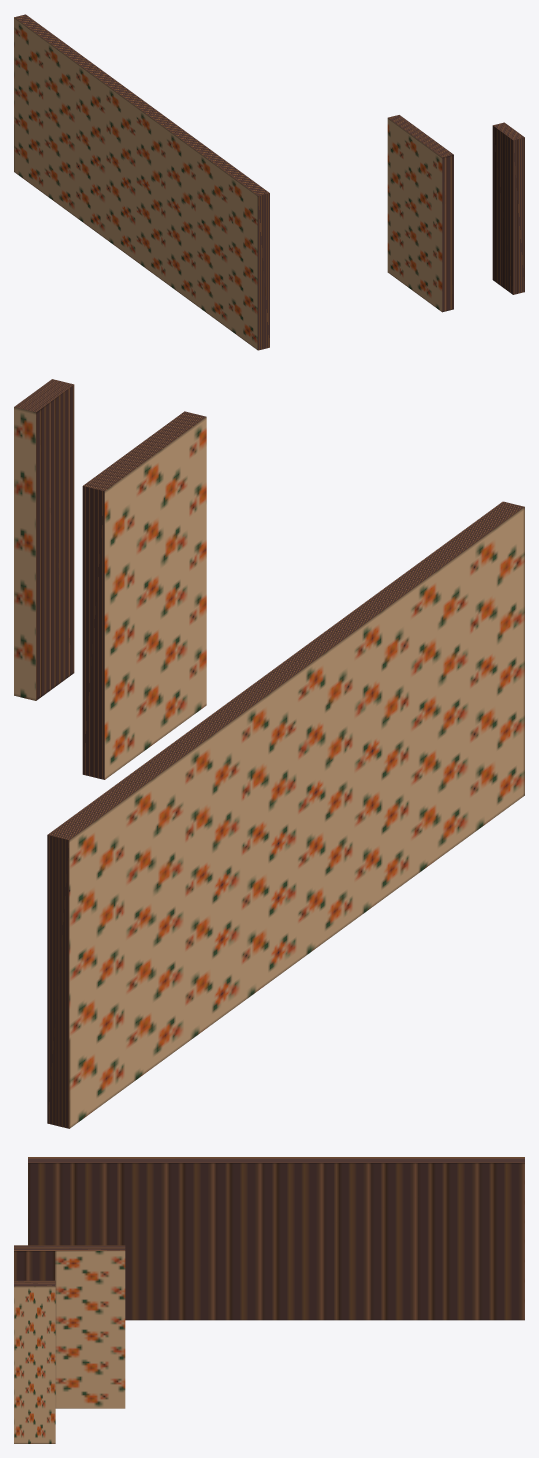
The model's file is Paredes_Habitación_Habitación.obj.
3 renders of one model, top to bottom at view 1: azimuth 30°, elevation 25°; view 2: azimuth 150°, elevation 25°; view 3: azimuth 270°, elevation 25°, orthographic. The views are drawn at different scales.
Visible parts, largest first — view 1: Paredes_Habitación_Habitación; view 2: Paredes_Habitación_Habitación; view 3: Paredes_Habitación_Habitación.
Part boxes in pixels (x1=…): Paredes_Habitación_Habitación: x1=14, y1=14, x2=524, y2=350; Paredes_Habitación_Habitación: x1=14, y1=379, x2=524, y2=1128; Paredes_Habitación_Habitación: x1=14, y1=1157, x2=524, y2=1443.
Bounding box in the file's own units: 2.75 × 1.56 × 4.59.
1 material, 1 textured.
